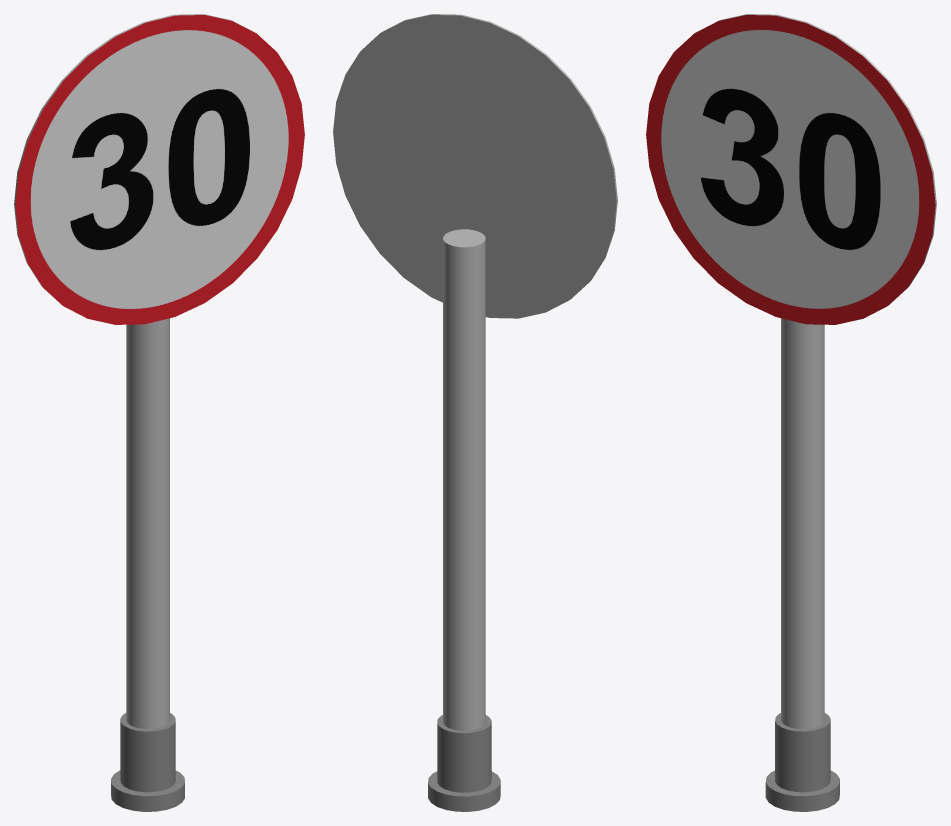
Rendered from Speed_Sign.fbx.
3 renders of one model, left to right at view 1: azimuth 30°, elevation 25°; view 2: azimuth 150°, elevation 25°; view 3: azimuth 330°, elevation 25°, orthographic. The views are drawn at different scales.
Parts seen in each view (by area): view 1: polySurface74; view 2: polySurface74; view 3: polySurface74.
Boxes of the visible parts, x1,y1,x2,y2 form: polySurface74: (14, 14, 304, 811); polySurface74: (333, 14, 617, 811); polySurface74: (646, 14, 936, 811).
Bounding box in the file's own units: 5.29 × 13.72 × 1.18.
